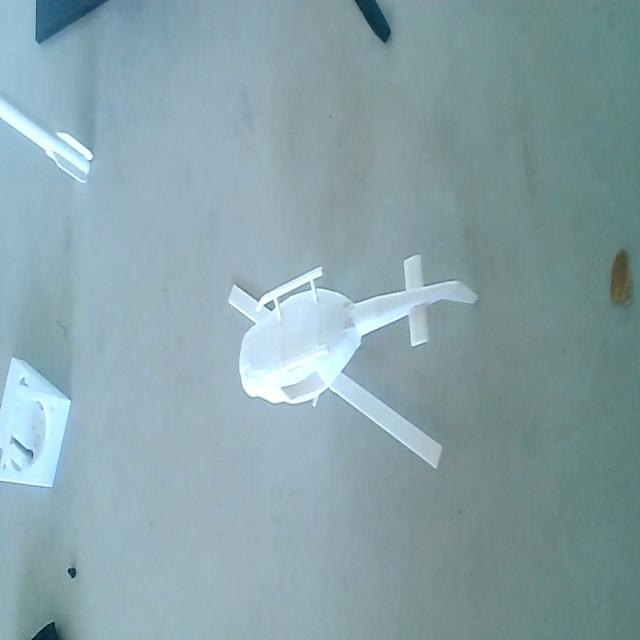Helicopter: (224, 251, 479, 478)
Rocket: (0, 87, 97, 190)
